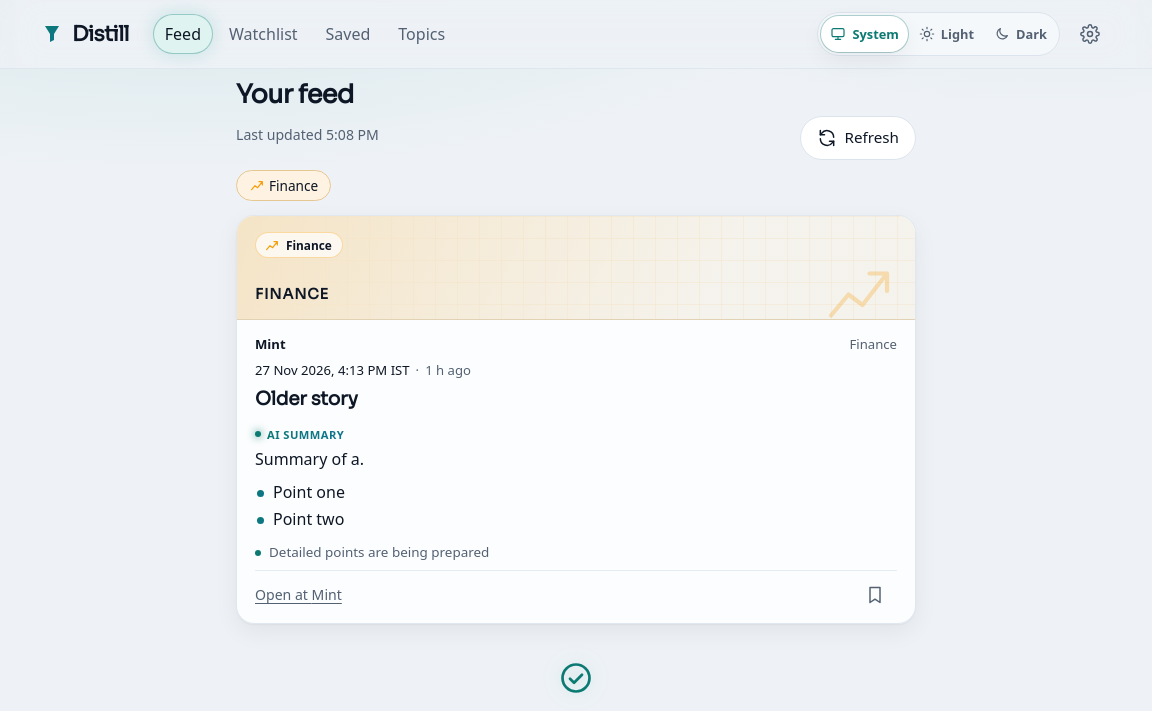
Scenario: US-8: Published times and a feed that stays fresh (CR-0004) › AC-8.7: at the top of the feed new cards appear straight away; scrolling back up shows waiting ones
Later steps or results of the test are not shown.
Click the button "Refresh": click(858, 138) [800,116,916,160]
(page scrolled)
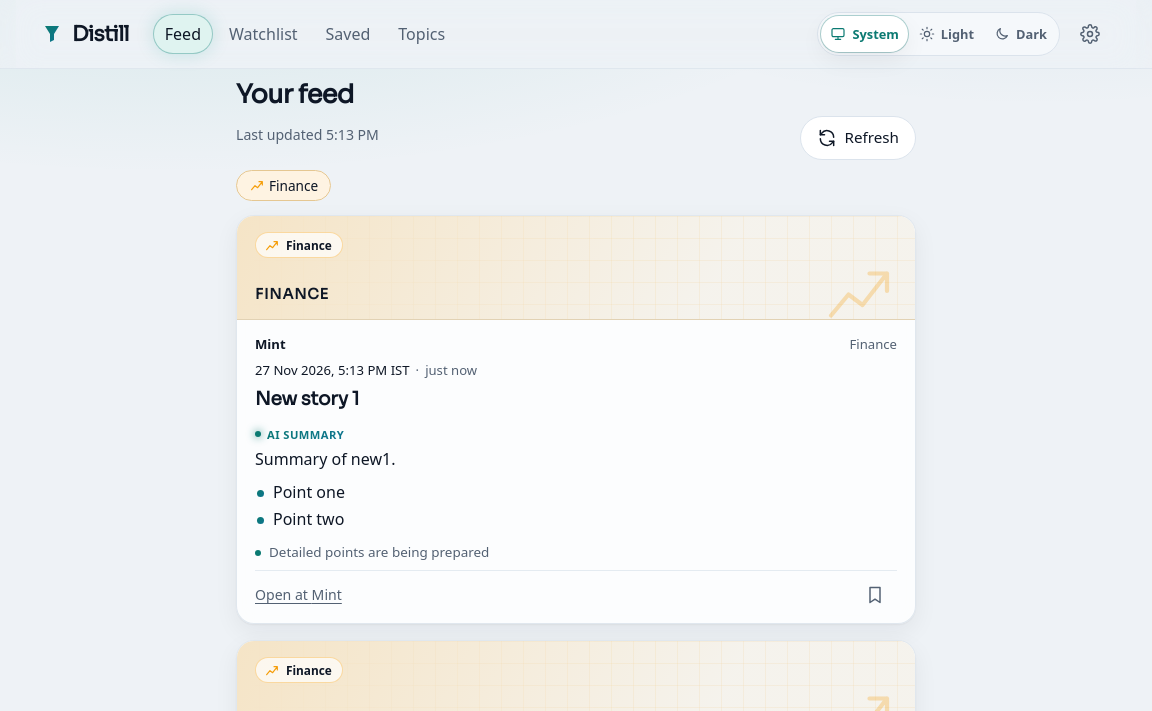
Check: the link "New story 1" is shown, box [255,387,359,410]
Click the button "Refresh": click(858, 138) [800,116,916,160]
(page scrolled)
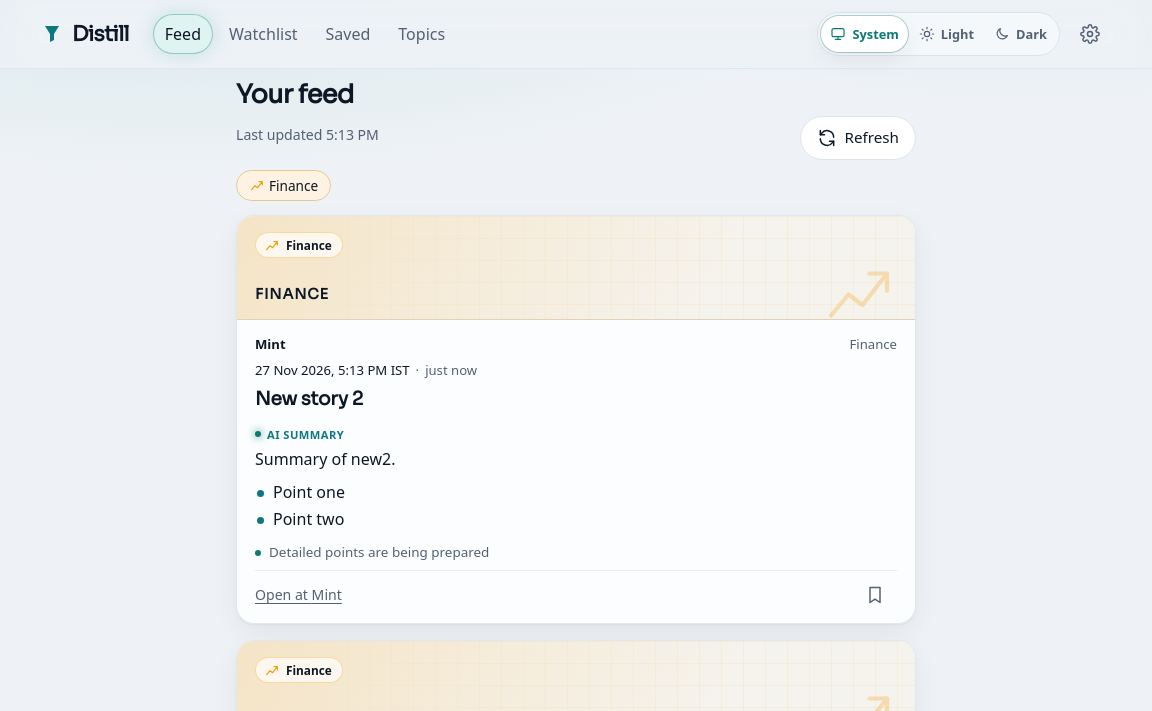
Check: the link "New story 2" is shown, box [255,387,363,410]
